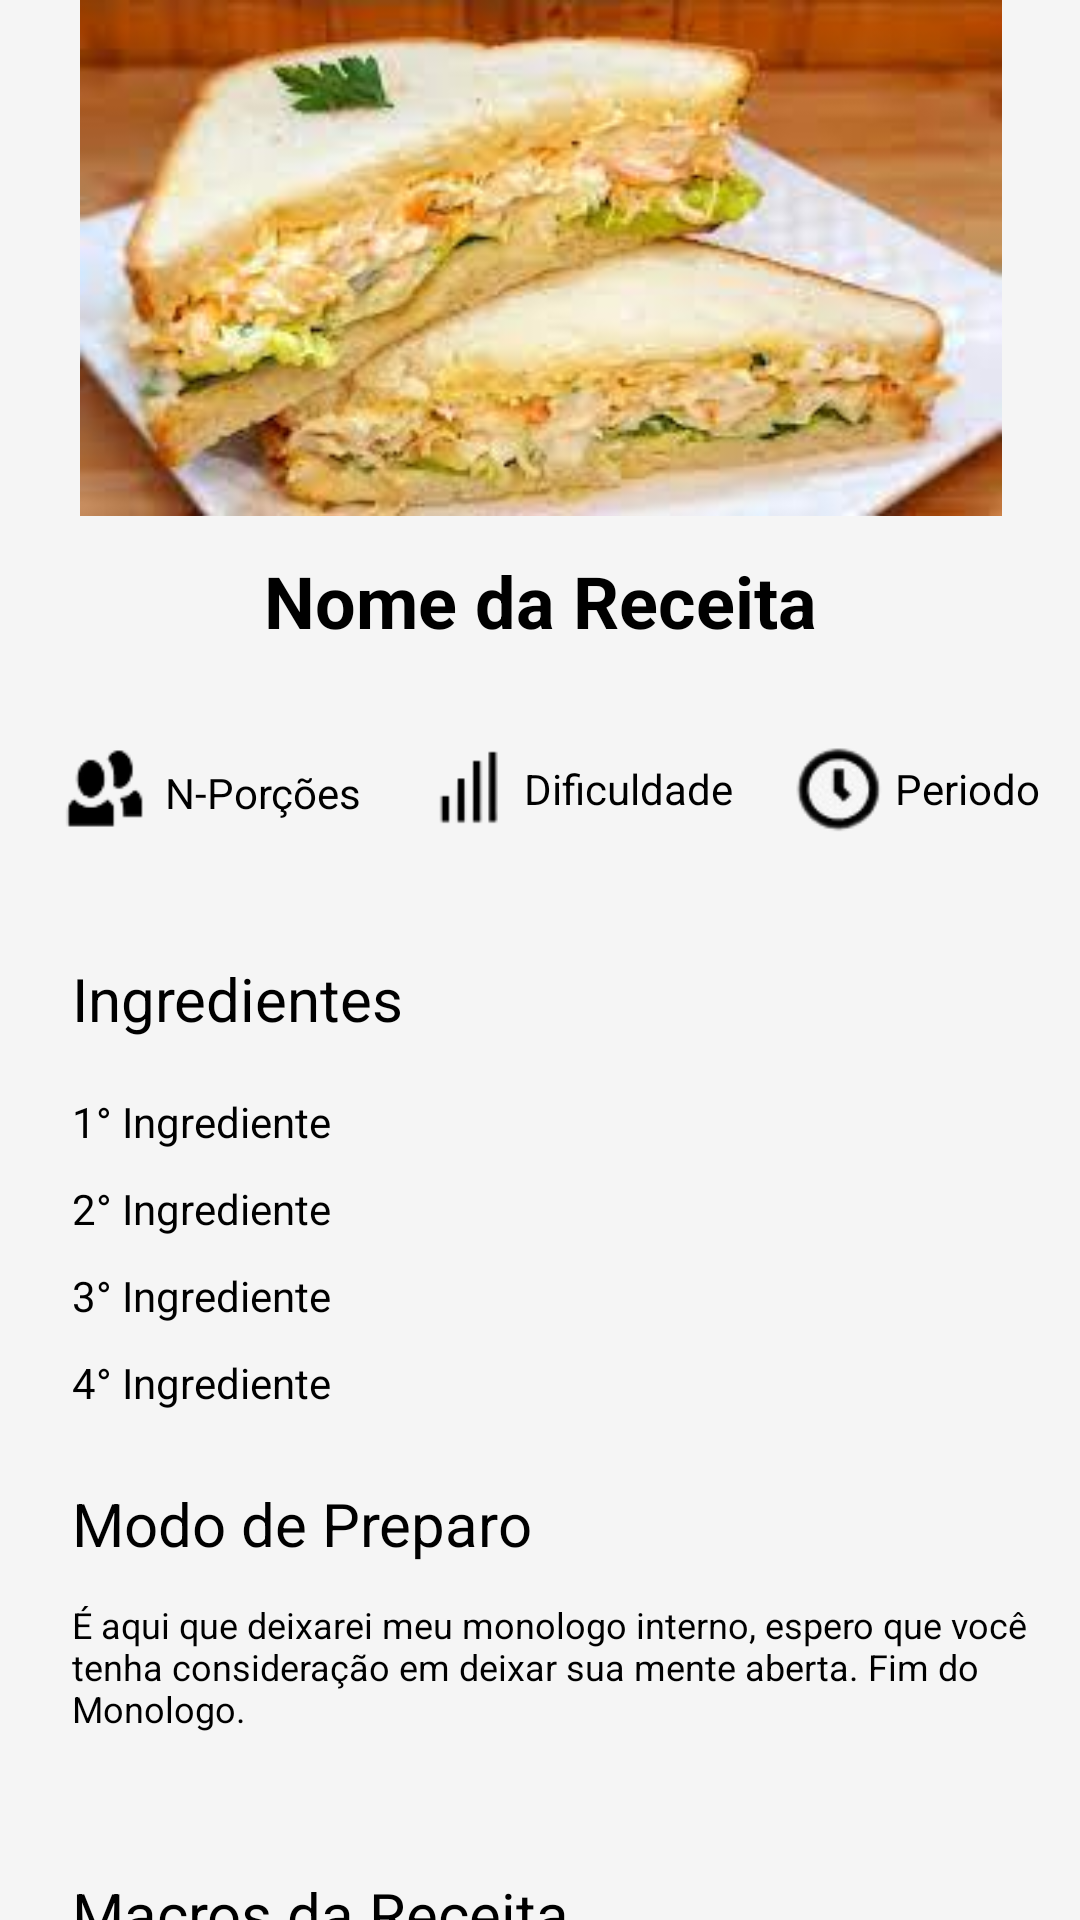

Icon click points for this 1080 x 1920 phone screenshot, format (x=x, y=y):
porcao: (x=105, y=788)
